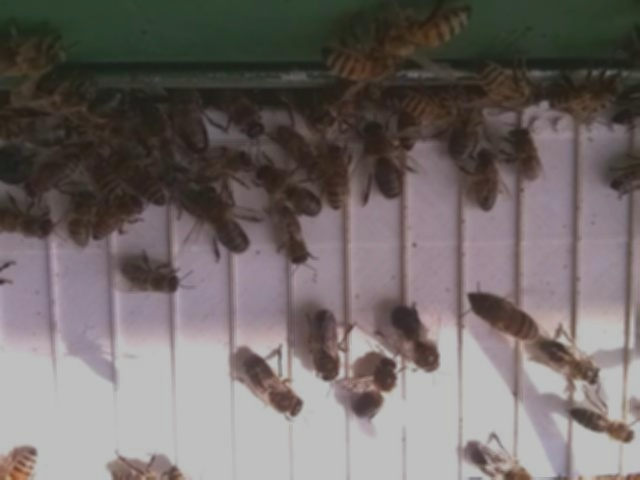Drone: (191, 183, 252, 256), (243, 352, 306, 422), (254, 164, 325, 220), (390, 303, 442, 377), (360, 120, 405, 202), (350, 356, 400, 424), (446, 87, 484, 166), (306, 308, 345, 384), (172, 88, 211, 160)
Worker: (24, 149, 84, 202), (540, 340, 605, 388), (570, 405, 637, 446), (484, 298, 542, 344), (93, 194, 145, 244), (118, 258, 182, 297), (322, 140, 354, 213), (62, 190, 96, 251), (0, 208, 56, 245), (278, 206, 310, 270), (509, 129, 541, 189), (471, 150, 499, 214)
